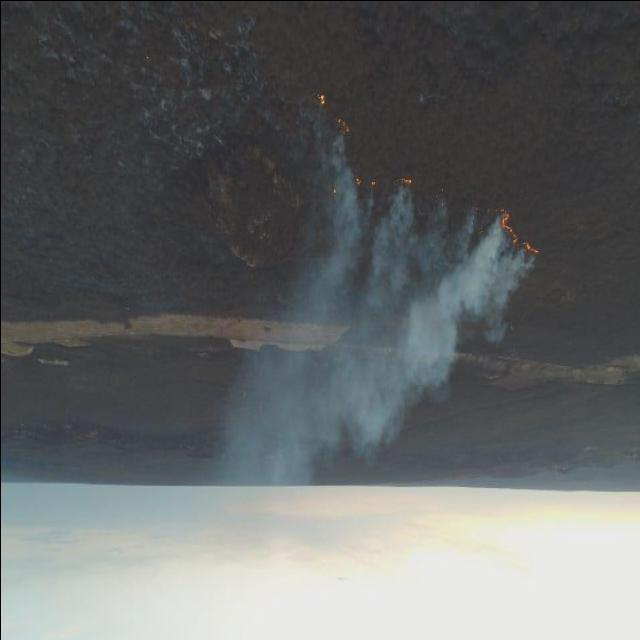Fire: (500, 210, 520, 244), (526, 240, 540, 256), (396, 174, 412, 187), (318, 95, 326, 106)
